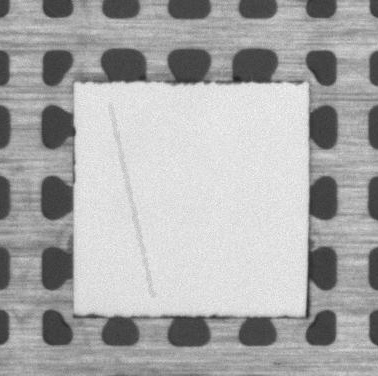DIE_CRACK: (111, 103, 154, 295)
